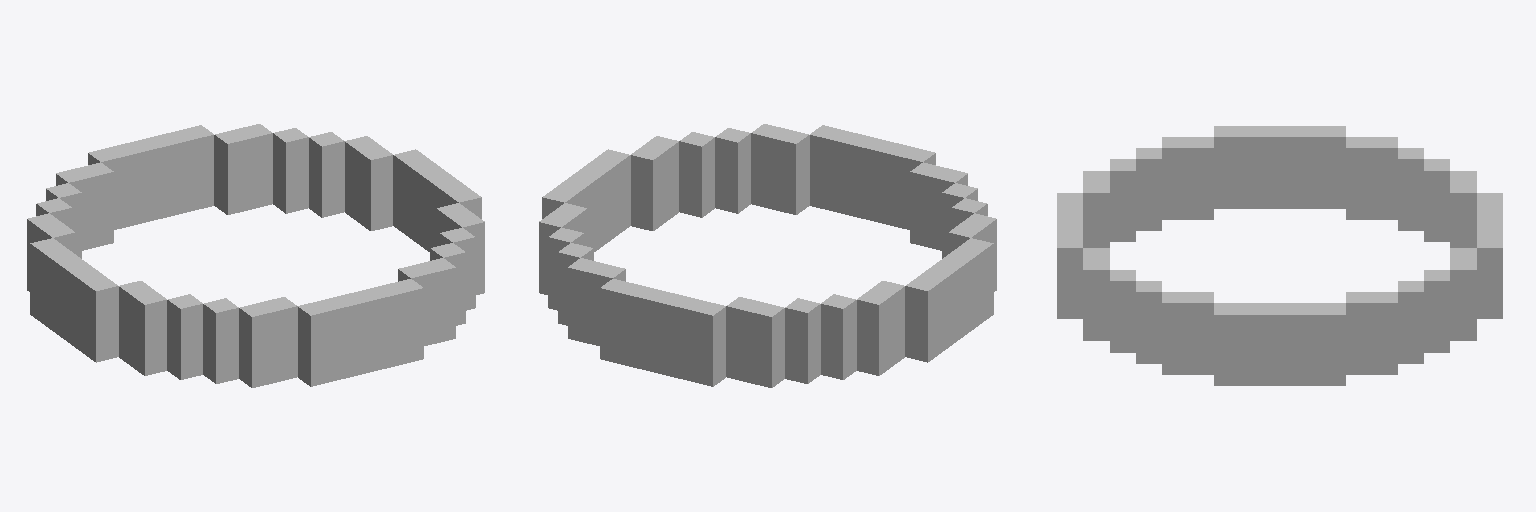
File: nano_phagocytosis_plant_ring_part_1.obj
The picture shows the model from 3 angles: view 1: azimuth 30°, elevation 25°; view 2: azimuth 150°, elevation 25°; view 3: azimuth 270°, elevation 25°; orthographic projection.
Visible parts, largest first — view 1: RingPart.045_cube.145, RingPart.044_cube.101, RingPart.009_cube.020, RingPart.012_cube.023, RingPart.014_cube.025, RingPart.034_cube.045, RingPart.043_cube.054, RingPart.030_cube.041, RingPart.032_cube.043, RingPart.005_cube.016, RingPart.026_cube.037, RingPart.037_cube.048 (+8 smaller); view 2: RingPart.045_cube.145, RingPart.044_cube.101, RingPart.010_cube.021, RingPart.011_cube.022, RingPart.016_cube.027, RingPart.033_cube.044, RingPart.042_cube.053, RingPart.028_cube.039, RingPart.031_cube.042, RingPart.007_cube.018, RingPart.025_cube.036, RingPart.035_cube.046 (+8 smaller); view 3: RingPart.045_cube.145, RingPart.044_cube.101, RingPart.002_cube.013, RingPart.004_cube.015, RingPart.013_cube.024, RingPart.015_cube.026, RingPart.027_cube.038, RingPart.029_cube.040, RingPart.042_cube.053, RingPart.043_cube.054, RingPart.000_cube.008, RingPart.001_cube.012 (+22 smaller).
Boxes of the visible parts, x1,y1,x2,y2 form: RingPart.045_cube.145: [27, 124, 484, 340]; RingPart.044_cube.101: [27, 181, 484, 387]; RingPart.009_cube.020: [309, 161, 344, 193]; RingPart.012_cube.023: [273, 157, 308, 189]; RingPart.014_cube.025: [214, 158, 249, 191]; RingPart.034_cube.045: [167, 323, 202, 356]; RingPart.043_cube.054: [83, 306, 118, 338]; RingPart.030_cube.041: [239, 332, 274, 364]; RingPart.032_cube.043: [203, 328, 238, 360]; RingPart.005_cube.016: [358, 175, 392, 207]; RingPart.026_cube.037: [298, 331, 332, 362]; RingPart.037_cube.048: [132, 320, 166, 351]; RingPart.045_cube.145: [539, 124, 996, 340]; RingPart.044_cube.101: [539, 181, 996, 387]; RingPart.010_cube.021: [679, 161, 714, 193]; RingPart.011_cube.022: [715, 157, 750, 189]; RingPart.016_cube.027: [774, 158, 809, 191]; RingPart.033_cube.044: [821, 323, 856, 356]; RingPart.042_cube.053: [905, 306, 940, 338]; RingPart.028_cube.039: [749, 332, 784, 364]; RingPart.031_cube.042: [785, 328, 820, 360]; RingPart.007_cube.018: [631, 175, 665, 207]; RingPart.025_cube.036: [691, 331, 725, 362]; RingPart.035_cube.046: [857, 320, 891, 351]; RingPart.045_cube.145: [1057, 126, 1502, 337]; RingPart.044_cube.101: [1057, 185, 1502, 385]; RingPart.002_cube.013: [1319, 338, 1345, 361]; RingPart.004_cube.015: [1214, 338, 1240, 361]; RingPart.013_cube.024: [1450, 294, 1476, 317]; RingPart.015_cube.026: [1083, 294, 1109, 317]; RingPart.027_cube.038: [1450, 216, 1476, 239]; RingPart.029_cube.040: [1083, 216, 1109, 239]; RingPart.042_cube.053: [1319, 161, 1345, 184]; RingPart.043_cube.054: [1214, 161, 1240, 184]; RingPart.000_cube.008: [1267, 338, 1292, 361]; RingPart.001_cube.012: [1293, 338, 1318, 361].
Bounding box in the file's own units: 17 × 3 × 17.